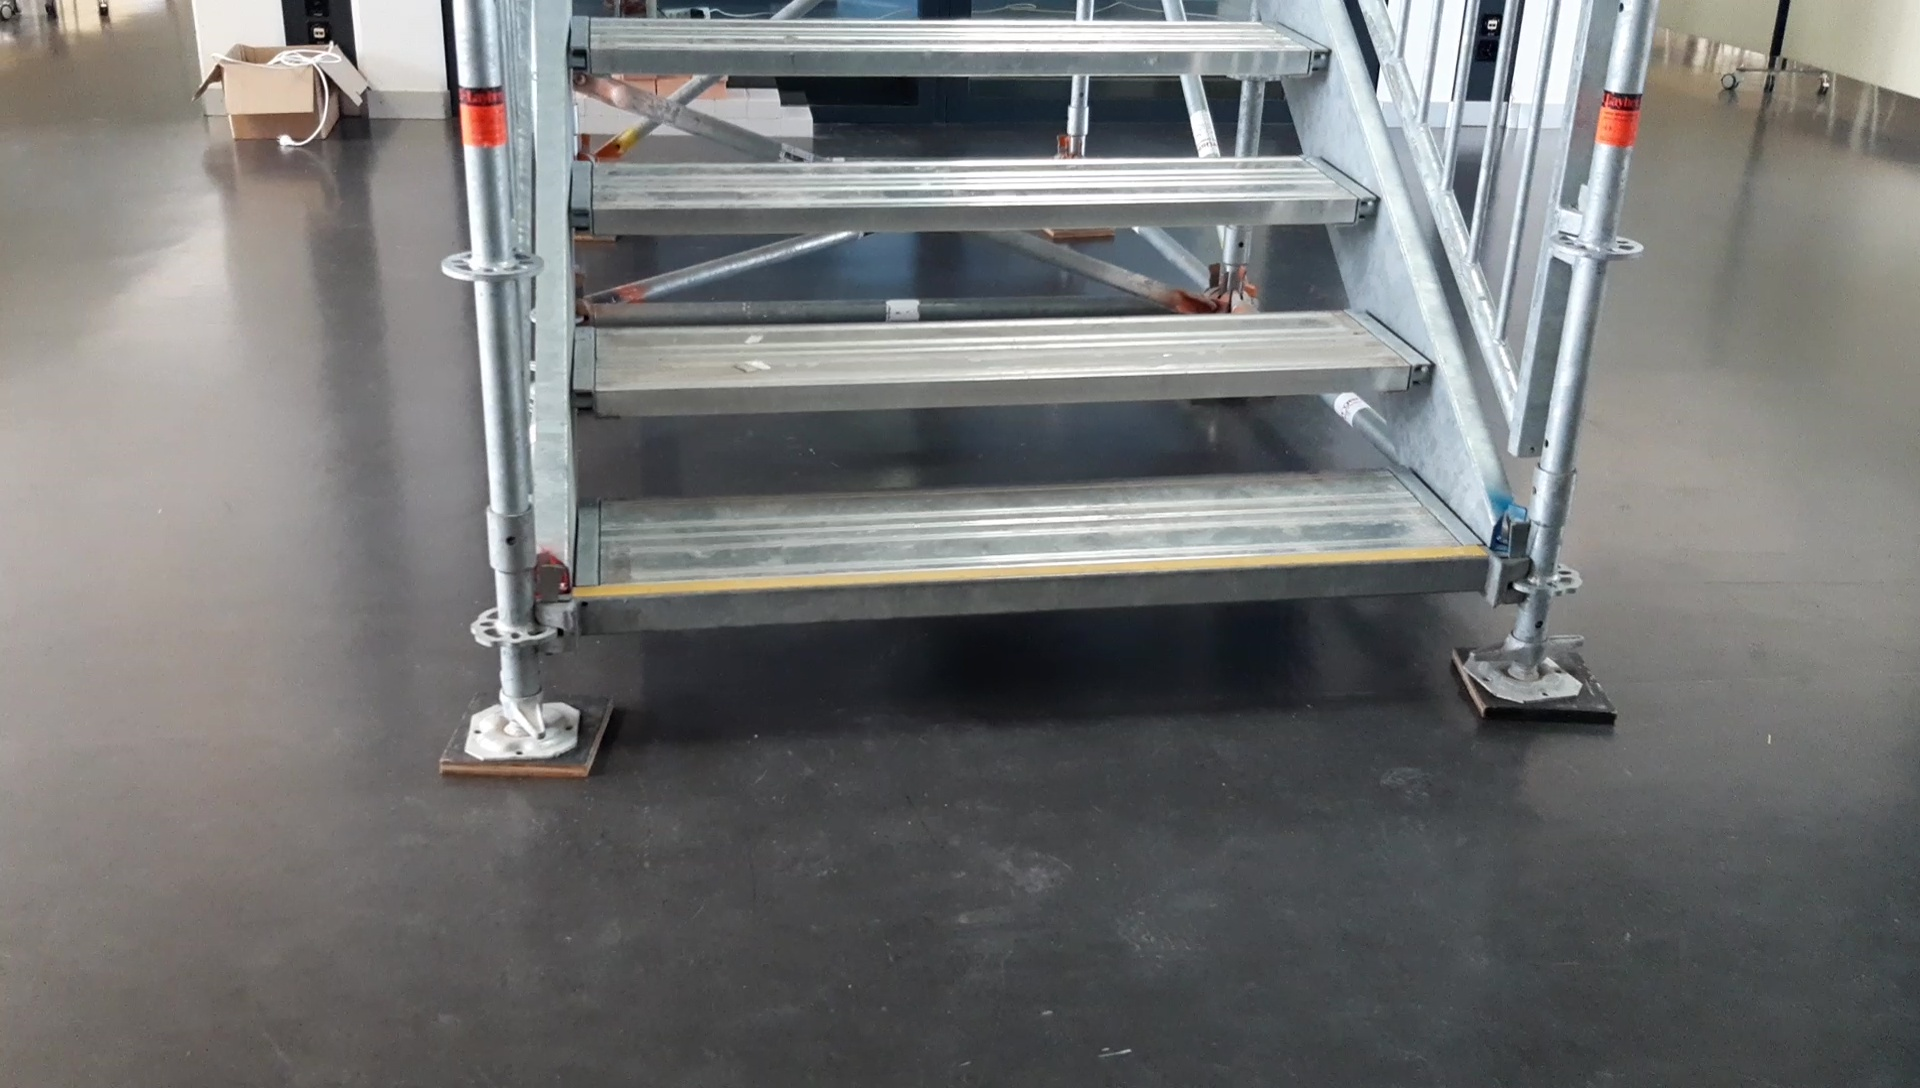edge: (578, 555, 1487, 630), (567, 363, 1433, 418), (567, 198, 1375, 235), (566, 47, 1331, 76)
stairs: (440, 3, 1619, 781)
